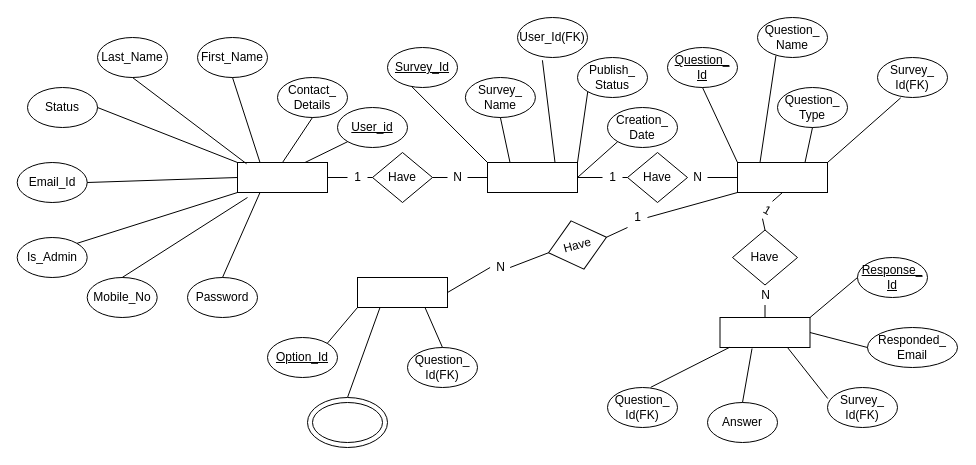
Image size: 976x465. Some labels were removed from this diagram. The centre of each missing label's shape, as x and y in pixels:
Option: the point at 402,292
Question: the point at 782,177
Question_ Options: the point at 347,422
Response: the point at 764,332
Survey: the point at 532,177
User: the point at 282,177
